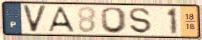1: (166, 6, 180, 37)
8: (77, 5, 99, 35)
A: (47, 6, 77, 33)
O: (99, 6, 129, 35)
S: (128, 7, 153, 35)
V: (21, 5, 49, 34)
